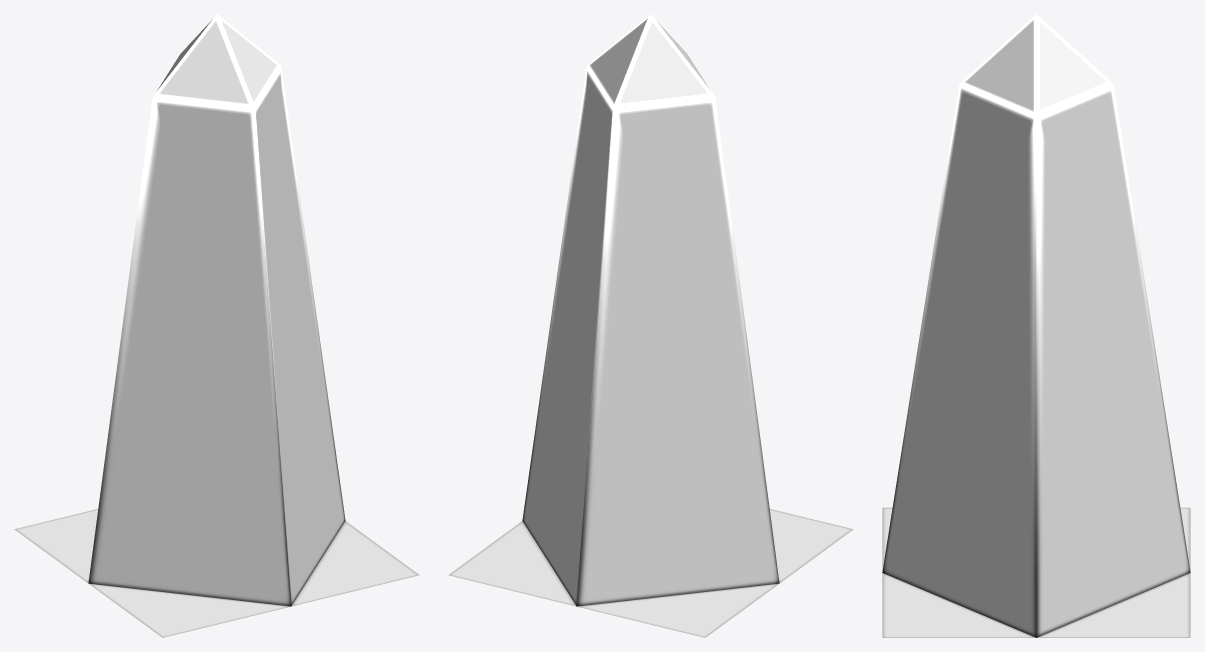
Rendered from obelisk_2-high_normal.fbx.
3 views of the same model, side by side, from view 1: azimuth 30°, elevation 25°; view 2: azimuth 150°, elevation 25°; view 3: azimuth 270°, elevation 25° (orthographic). The views are drawn at different scales.
Parts seen in each view (by area): view 1: obelisk_2-high_normal; view 2: obelisk_2-high_normal; view 3: obelisk_2-high_normal.
Part boxes in pixels (box(x1,y1,x2,y2)): obelisk_2-high_normal: box(14, 14, 419, 637); obelisk_2-high_normal: box(448, 14, 853, 637); obelisk_2-high_normal: box(882, 14, 1190, 637).
Bounding box in the file's own units: 100 × 200 × 100.
